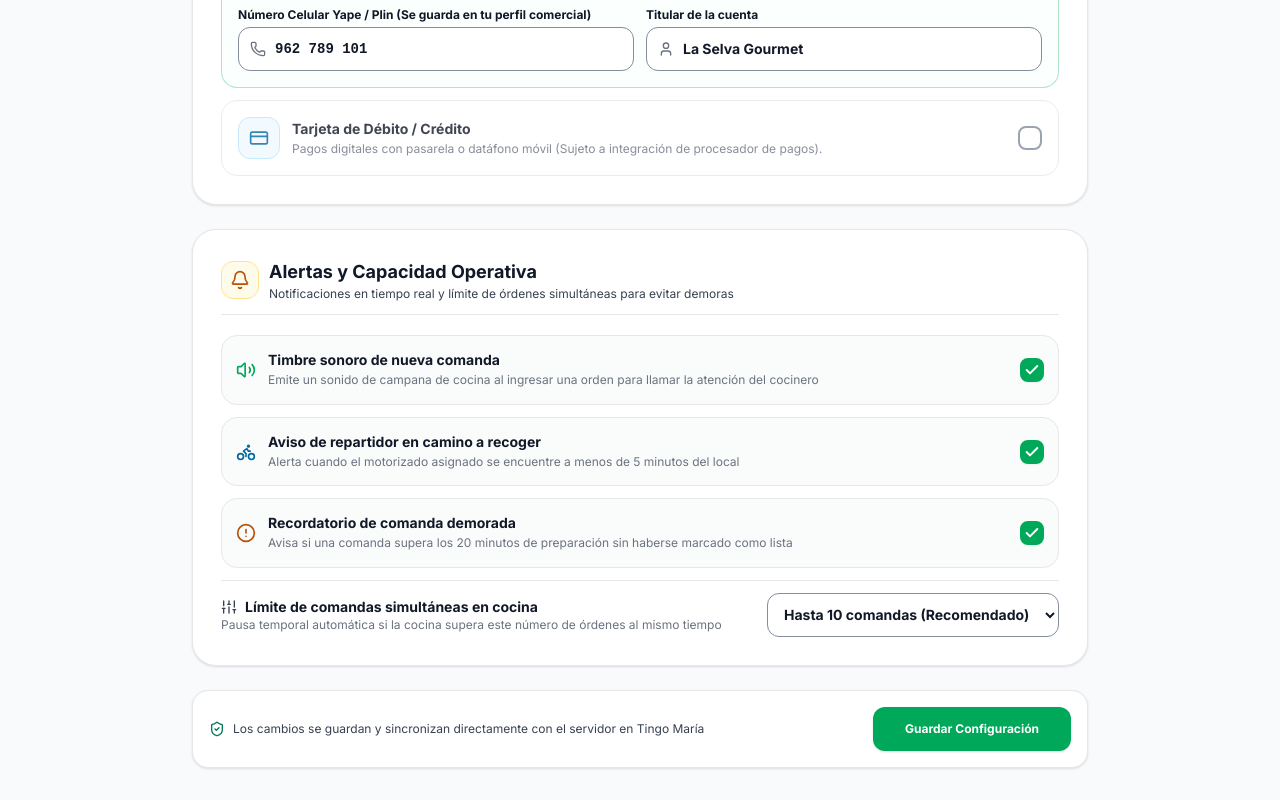
Test: Bloque 4: Configuración, Horarios e Integrantes (MerchantSettingsPage) › conecta horarios semanales y guarda turnos mediante la API
(page scrolled)
What coordinates should you click on to do the following:
click the button "Guardar Configuración"
I would click on:
 (972, 729)
Its box is [873,707,1071,751].
(page scrolled)
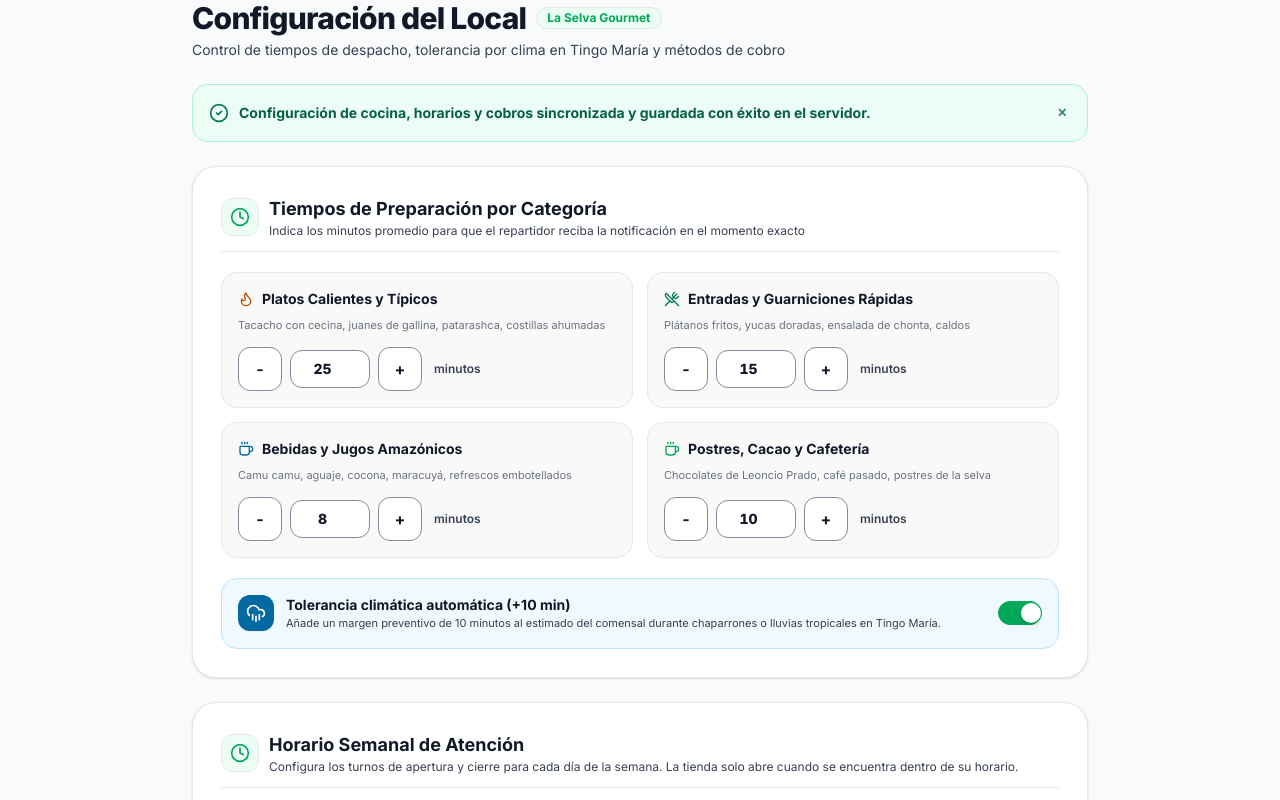
Expected: the text "Configuración de cocina, horarios y cobros sincronizada y guardada con éxito" is shown, [239,104,871,121]
